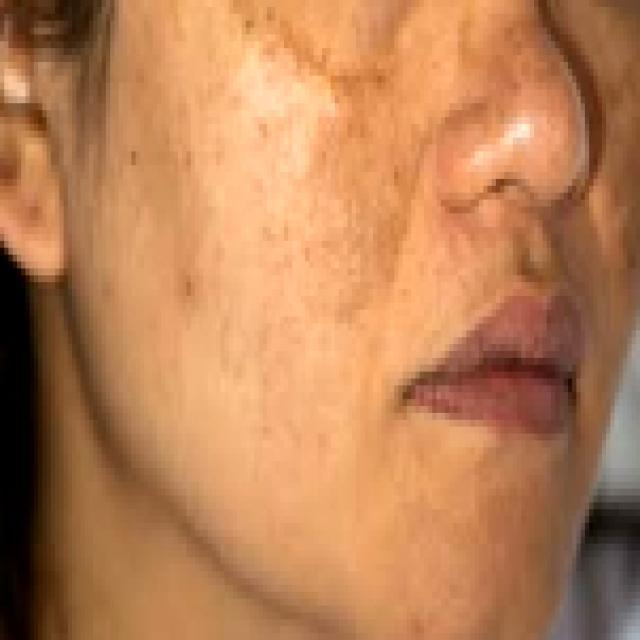Melasma: (230, 2, 429, 308), (524, 50, 640, 296), (441, 17, 588, 152)
